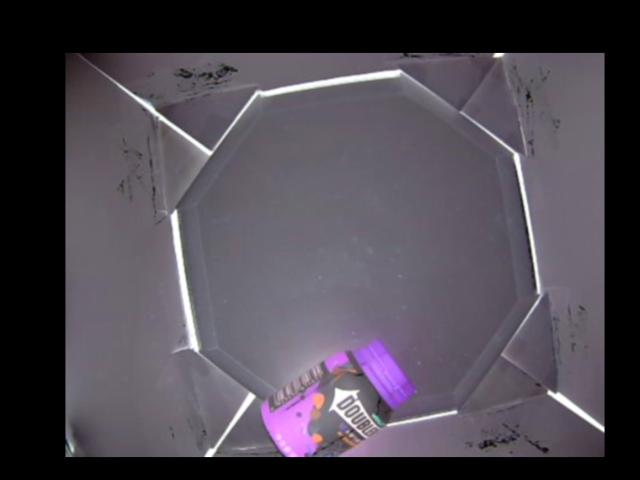Bottle: (260, 338, 416, 457)
